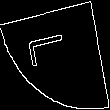L_E: (31, 34, 79, 76)
